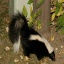skunk: (10, 14, 56, 60)
